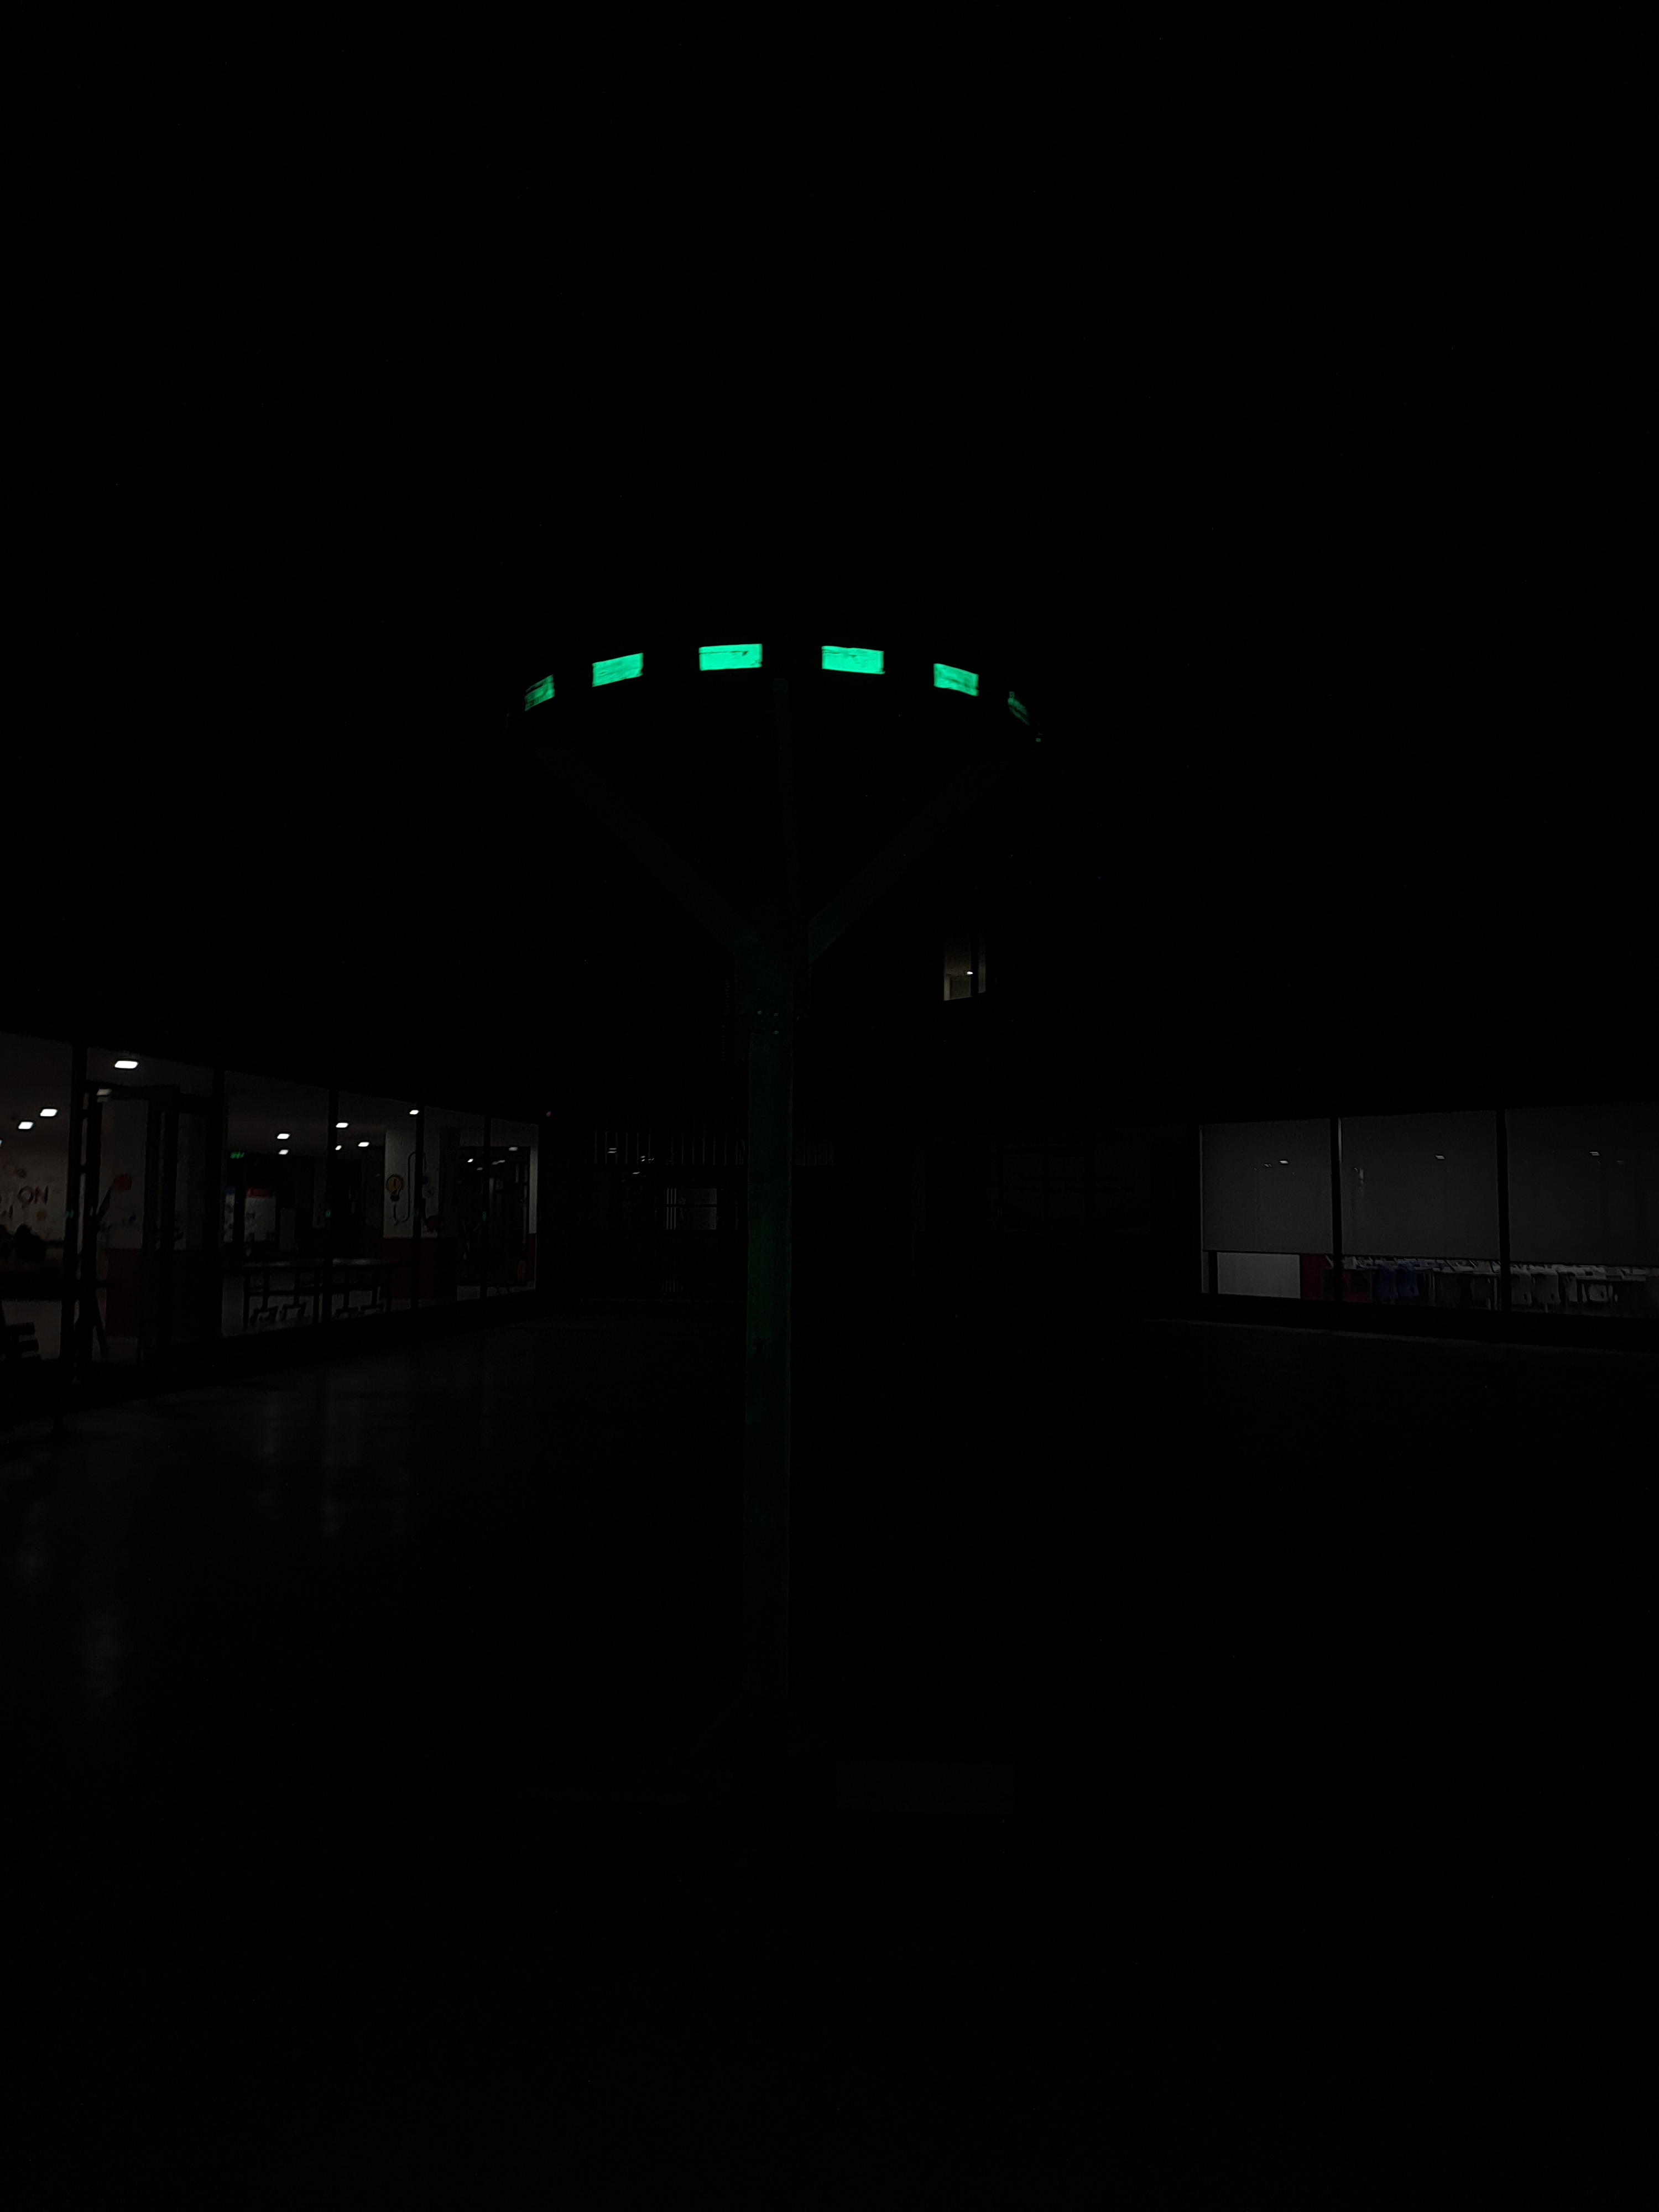hoop: (519, 617, 986, 730)
